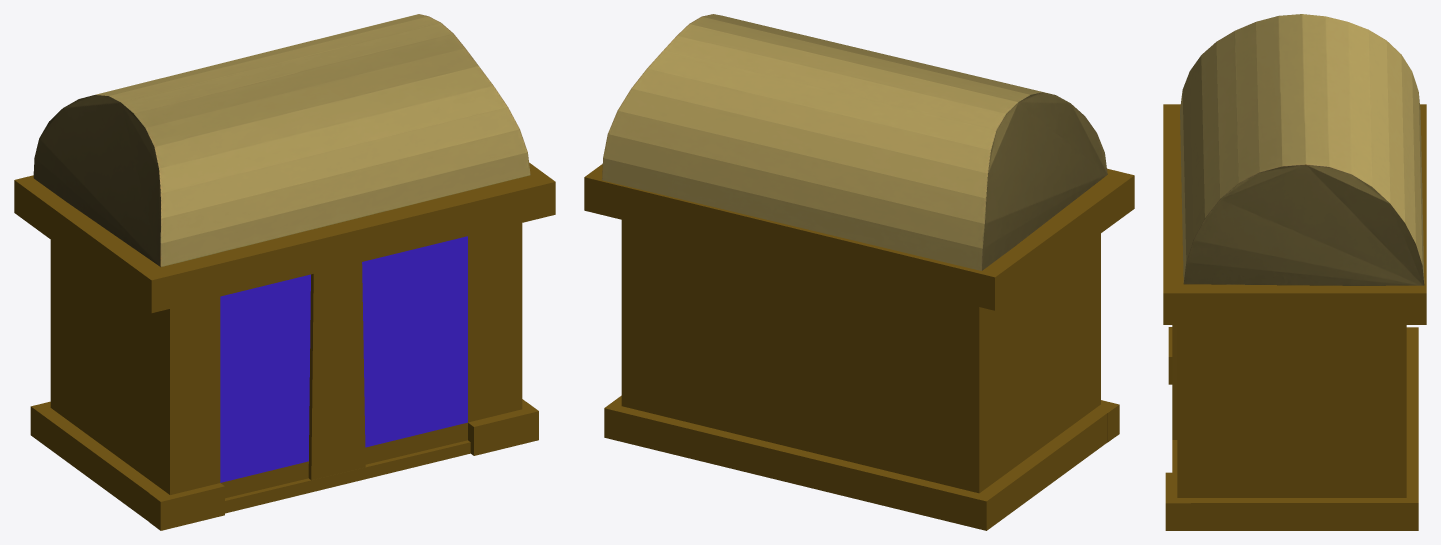
Rendered from my_treasure_chest.glb.
The picture shows the model from 3 angles, left to right: view 1: azimuth 30°, elevation 25°; view 2: azimuth 150°, elevation 25°; view 3: azimuth 270°, elevation 25°; orthographic projection. The views are drawn at different scales.
Visible parts, largest first — view 1: Cube, Cylinder; view 2: Cube, Cylinder; view 3: Cube, Cylinder.
Part boxes in pixels (x1=…): Cube: x1=14, y1=162, x2=555, y2=530; Cylinder: x1=33, y1=14, x2=530, y2=266; Cube: x1=584, y1=164, x2=1134, y2=530; Cylinder: x1=602, y1=14, x2=1107, y2=270; Cube: x1=1163, y1=104, x2=1426, y2=530; Cylinder: x1=1180, y1=14, x2=1424, y2=285.
Bounding box in the file's own units: 1.69 × 1.48 × 0.9946.
Materials: 3 (1 with a texture image).
